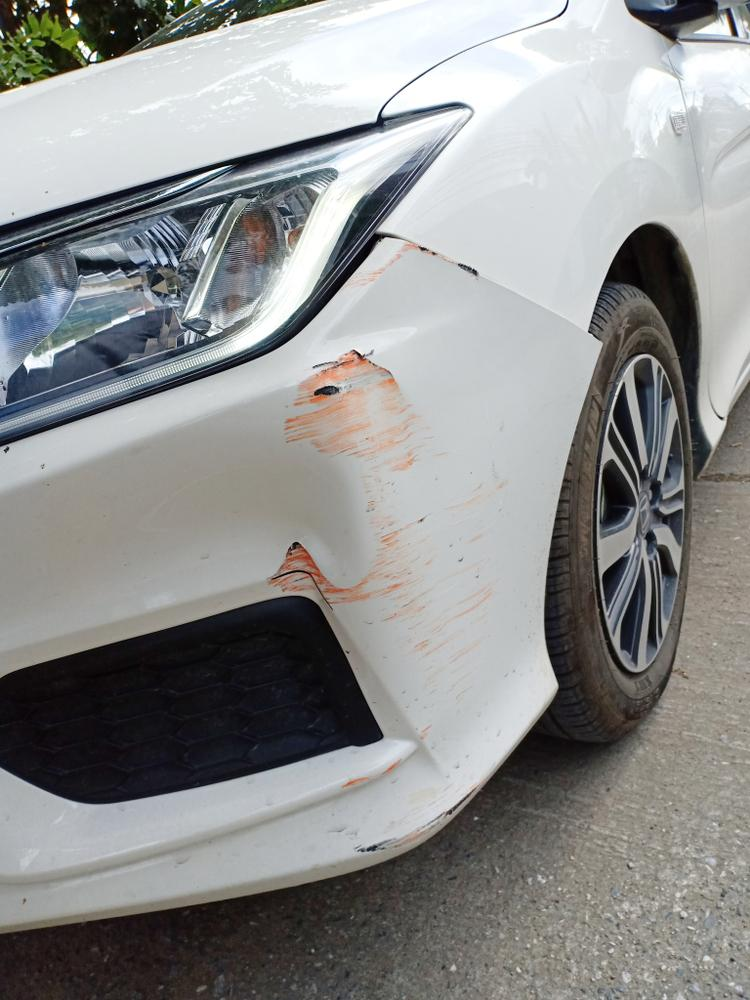scratch: (268, 343, 491, 709), (350, 784, 481, 857), (354, 234, 487, 287)
